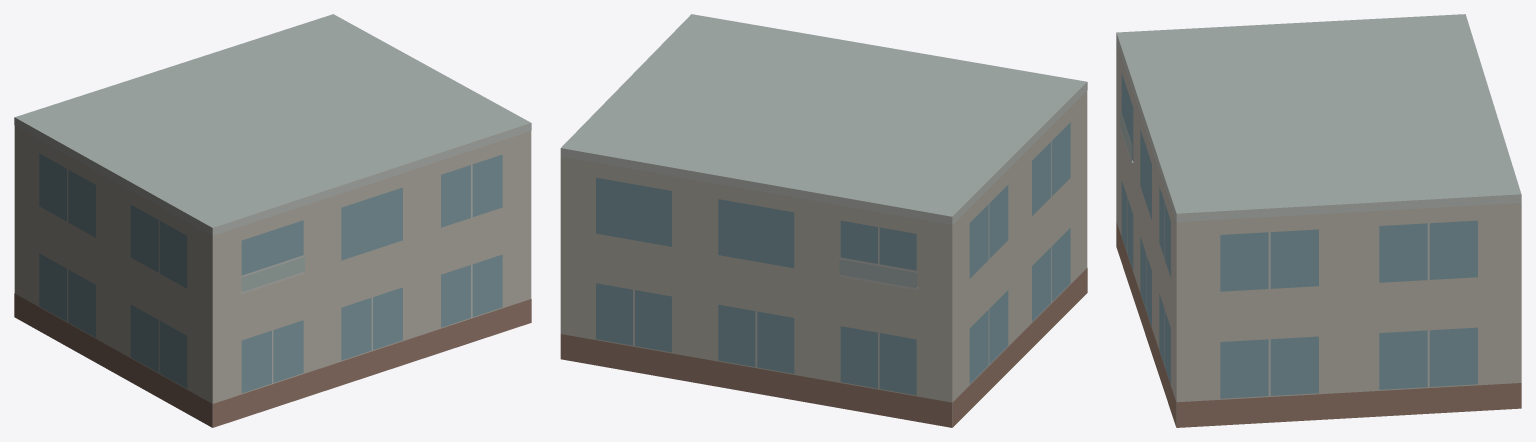
Rendered from survey-upis-32703081.glb.
3 renders of one model, left to right at view 1: azimuth 30°, elevation 25°; view 2: azimuth 150°, elevation 25°; view 3: azimuth 270°, elevation 25°, orthographic. The views are drawn at different scales.
Parts seen in each view (by area): view 1: survey-upis-32703081.tmp; view 2: survey-upis-32703081.tmp; view 3: survey-upis-32703081.tmp.
Boxes of the visible parts, <box> form: survey-upis-32703081.tmp: <box>14,14,531,427</box>; survey-upis-32703081.tmp: <box>560,14,1087,427</box>; survey-upis-32703081.tmp: <box>1116,14,1521,427</box>.
Bounding box in the file's own units: 12.21 × 6.1 × 10.47.
